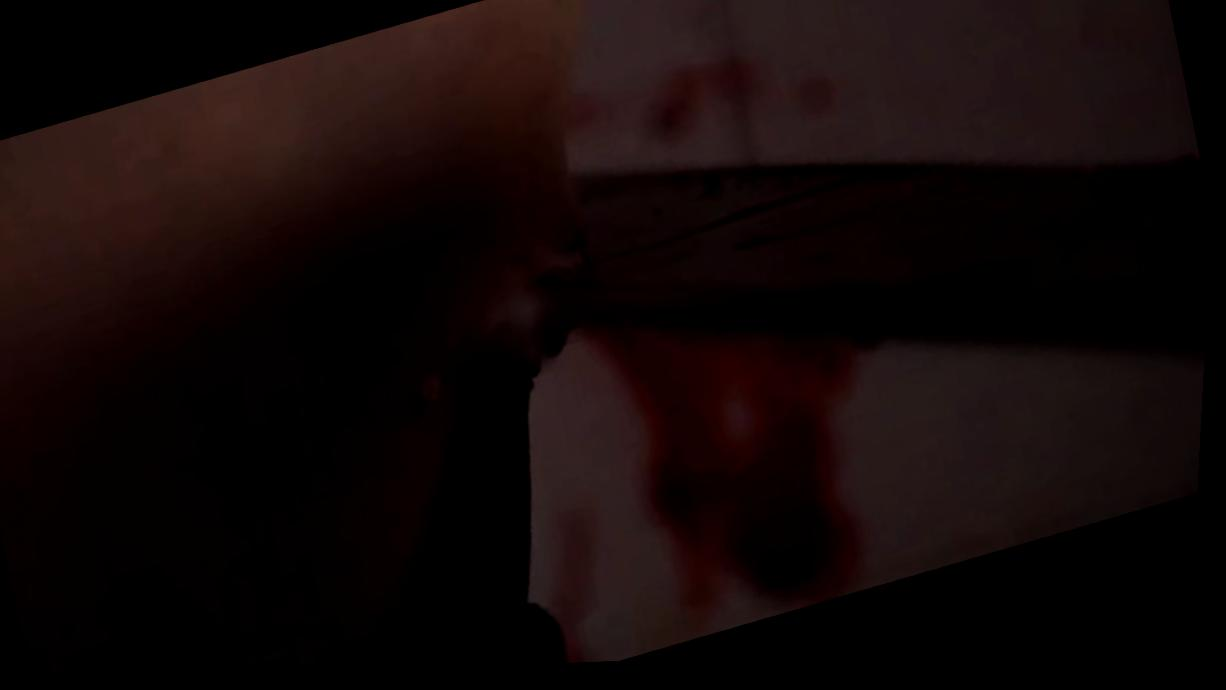Fire: (549, 41, 1215, 608)
